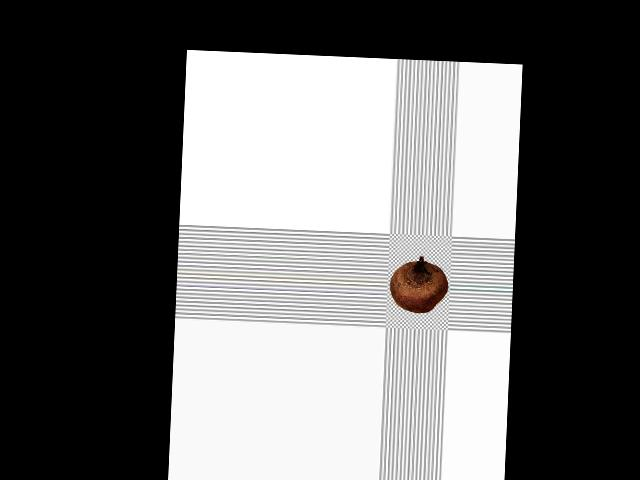beet: (389, 254, 449, 313)
